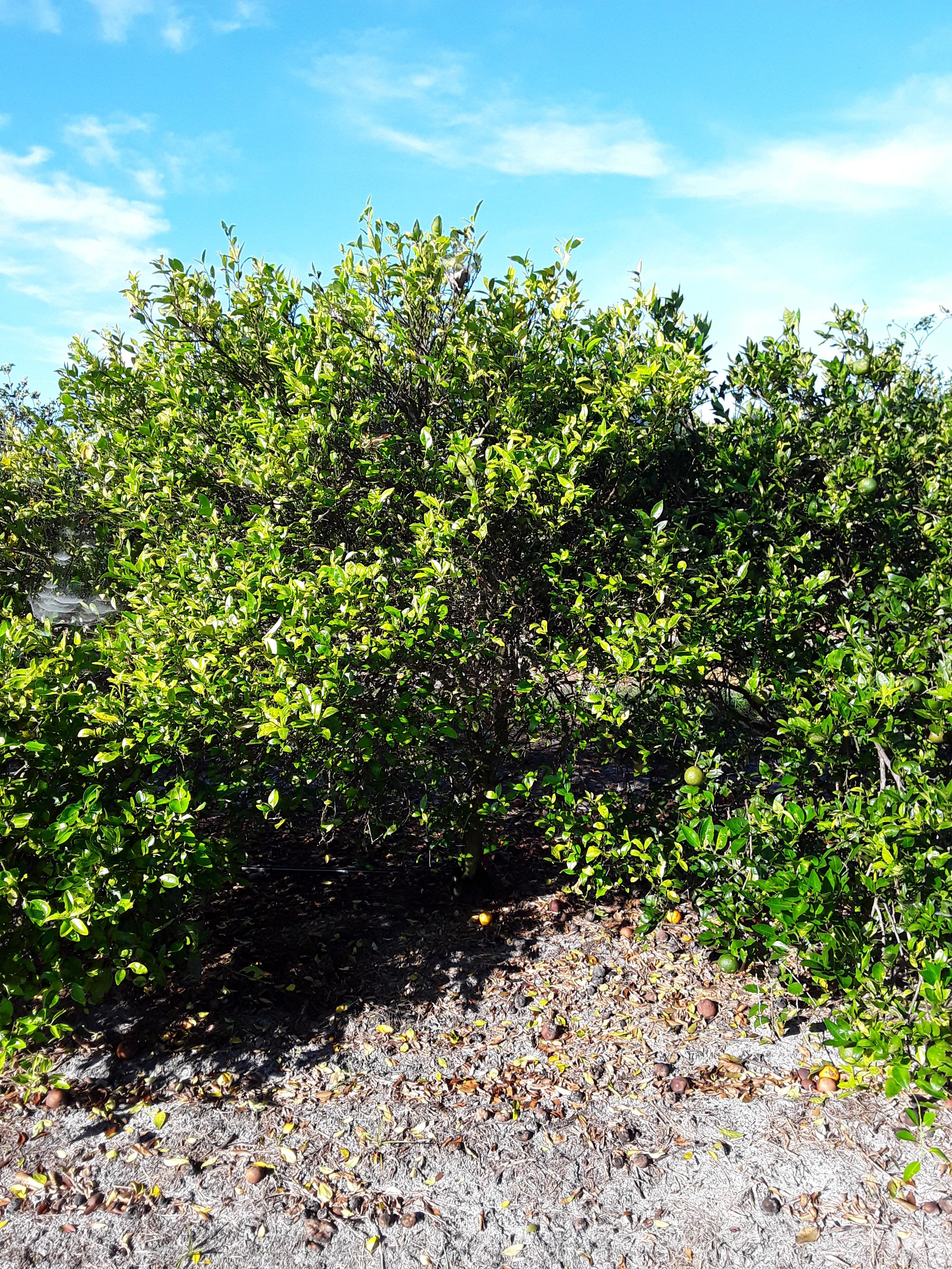fruit_on_ground: (855, 472, 881, 498), (716, 951, 742, 975), (632, 752, 655, 778), (903, 674, 928, 696), (683, 764, 706, 787), (926, 725, 948, 746), (851, 356, 871, 377), (750, 687, 770, 706)
fruit_on_tree: (695, 997, 720, 1019), (243, 1163, 266, 1186), (44, 1087, 66, 1109), (114, 1040, 138, 1060), (668, 1074, 692, 1094), (815, 1076, 839, 1096), (817, 1063, 841, 1083), (539, 1022, 561, 1042), (662, 906, 683, 926), (760, 1196, 782, 1215), (920, 1197, 942, 1215), (630, 1151, 652, 1168), (398, 1211, 418, 1229), (476, 910, 494, 928), (617, 923, 635, 940), (546, 898, 565, 913), (514, 1128, 533, 1142), (534, 1106, 549, 1120), (555, 912, 568, 923)
